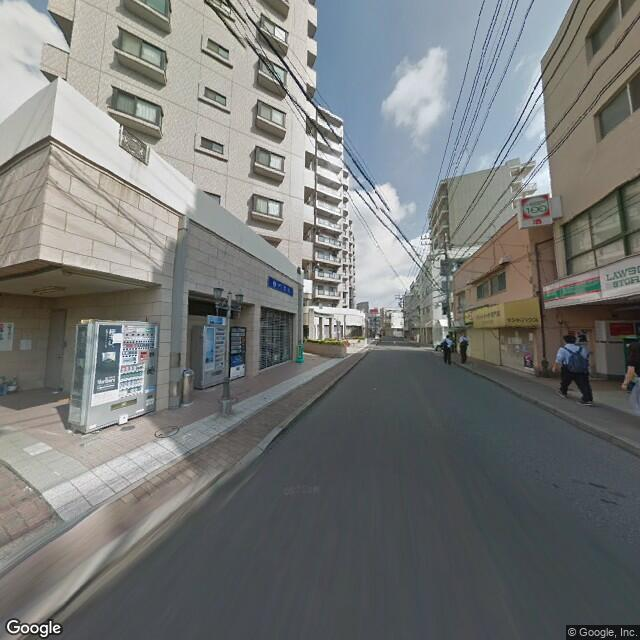lawson: (541, 253, 640, 315), (521, 194, 549, 221)
